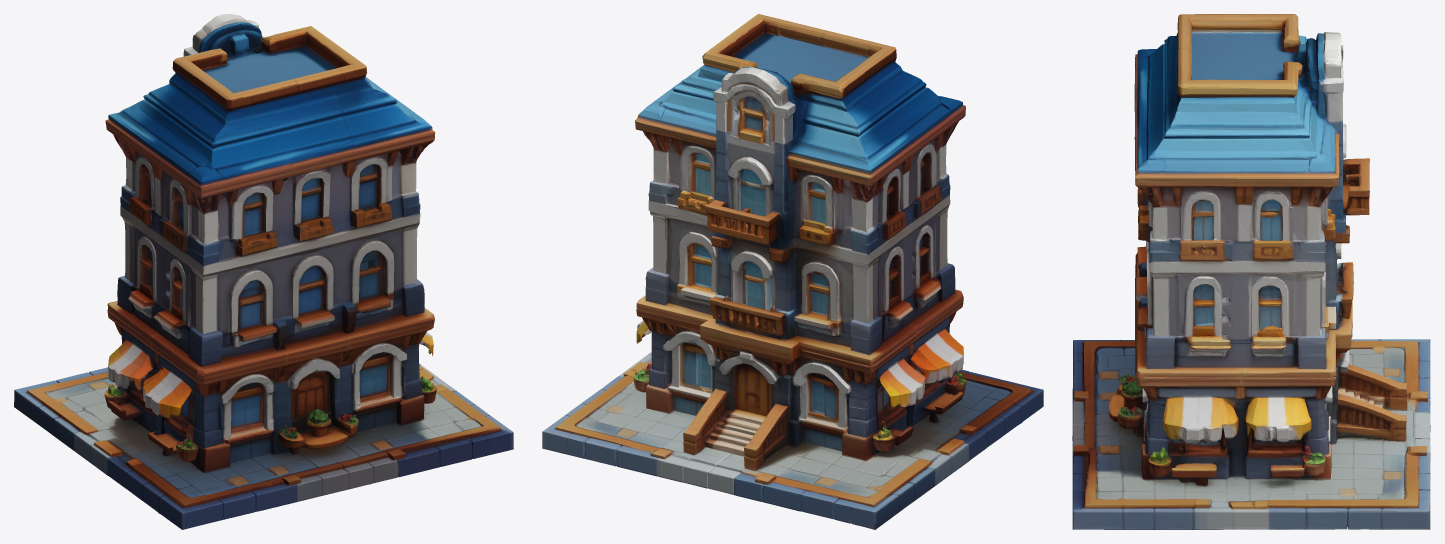
Rendered from typical_building_building_3D-CoR1.glb.
The picture shows the model from 3 angles, left to right: view 1: azimuth 30°, elevation 25°; view 2: azimuth 150°, elevation 25°; view 3: azimuth 270°, elevation 25°; orthographic projection. The views are drawn at different scales.
Visible parts, largest first — view 1: world; view 2: world; view 3: world.
Boxes of the visible parts, x1,y1,x2,y2 form: world: (14, 14, 513, 529); world: (542, 14, 1043, 529); world: (1072, 14, 1430, 529).
Size of the model in its own units: 0.9065 by 1 by 0.7962.
1 material, 1 textured.
